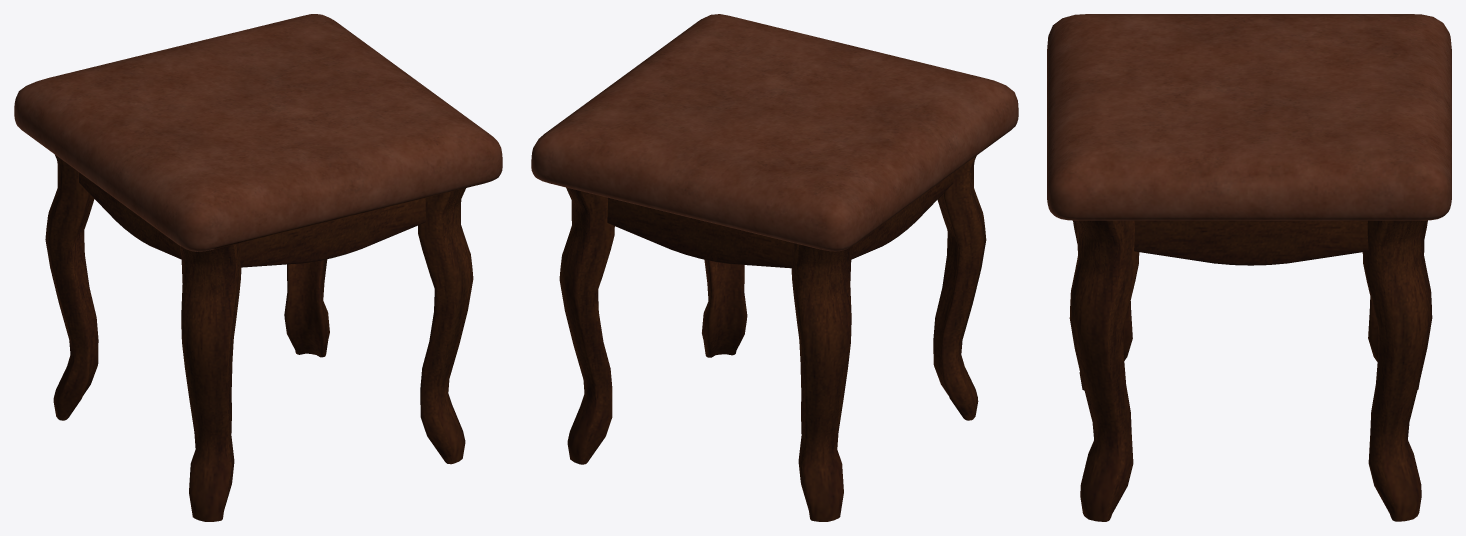
The model's file is TableRetro03_Chair.FBX.
3 renders of one model, left to right at view 1: azimuth 30°, elevation 25°; view 2: azimuth 150°, elevation 25°; view 3: azimuth 270°, elevation 25°, orthographic. The views are drawn at different scales.
Parts seen in each view (by area): view 1: TableRetro03_Chair; view 2: TableRetro03_Chair; view 3: TableRetro03_Chair.
Boxes of the visible parts, left/top/right/bottom form: TableRetro03_Chair: left=14, top=14, right=502, bottom=521; TableRetro03_Chair: left=531, top=14, right=1018, bottom=521; TableRetro03_Chair: left=1047, top=14, right=1451, bottom=521.
Bounding box in the file's own units: 550 × 548 × 550.
